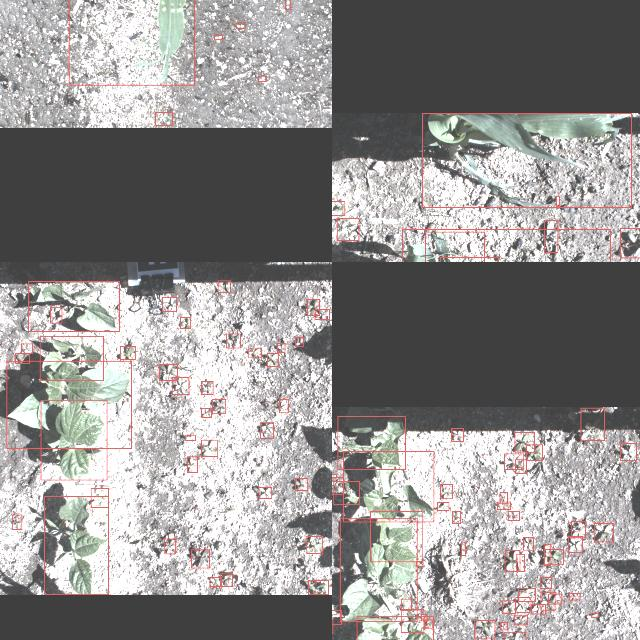crop: (422, 113, 630, 207), (5, 361, 130, 449), (68, 0, 194, 85), (339, 518, 416, 622), (402, 228, 610, 262), (342, 451, 433, 522), (44, 497, 108, 595), (40, 400, 106, 480), (28, 281, 118, 331), (337, 416, 405, 468), (39, 336, 103, 380), (369, 511, 421, 562), (356, 617, 432, 640)
weed: (424, 231, 483, 262), (580, 408, 604, 440), (619, 228, 640, 258), (333, 482, 359, 504), (401, 610, 424, 632), (336, 218, 358, 240), (544, 220, 558, 252), (593, 522, 613, 542), (514, 432, 534, 452), (90, 488, 108, 508), (474, 620, 494, 638), (504, 550, 520, 572), (158, 364, 178, 381), (191, 550, 209, 568), (543, 548, 563, 564), (306, 536, 322, 554), (172, 377, 188, 395), (620, 443, 636, 461), (308, 580, 328, 594), (200, 439, 216, 456), (503, 454, 522, 468), (526, 444, 542, 460), (154, 112, 172, 126), (540, 592, 554, 610), (211, 398, 225, 414), (162, 296, 176, 312), (568, 536, 582, 552), (571, 521, 585, 537), (518, 588, 534, 602), (226, 334, 240, 348), (515, 598, 529, 612), (306, 299, 318, 315), (260, 422, 272, 438), (332, 477, 343, 494), (120, 346, 134, 359), (50, 307, 61, 323), (503, 632, 525, 640), (332, 201, 344, 215), (294, 478, 308, 490), (258, 487, 272, 499), (164, 540, 176, 554), (514, 459, 526, 473), (502, 600, 514, 614), (440, 484, 452, 498), (451, 428, 463, 442), (314, 309, 330, 319), (187, 457, 197, 473), (12, 514, 22, 530), (217, 280, 230, 292), (266, 354, 278, 366), (200, 382, 212, 394), (220, 574, 232, 586), (278, 399, 288, 413), (15, 353, 29, 363), (548, 594, 562, 604), (523, 536, 533, 550), (531, 604, 545, 614), (544, 544, 550, 566), (516, 554, 524, 570), (209, 577, 221, 587), (180, 316, 190, 328), (20, 343, 32, 353), (400, 598, 410, 610), (513, 616, 527, 624), (332, 610, 340, 624), (496, 501, 509, 509), (201, 408, 211, 418), (540, 578, 550, 588), (508, 510, 518, 520), (248, 349, 260, 357), (452, 511, 460, 523), (499, 492, 507, 503), (460, 542, 466, 556), (295, 336, 303, 346), (438, 502, 448, 510), (568, 594, 580, 600), (424, 620, 432, 628), (499, 622, 506, 630), (284, 0, 290, 9), (278, 343, 284, 352), (258, 76, 266, 82), (185, 436, 195, 440), (420, 615, 426, 621), (236, 24, 244, 28), (214, 36, 222, 40), (590, 613, 598, 617), (416, 562, 422, 566), (556, 196, 558, 206), (332, 474, 335, 477)
